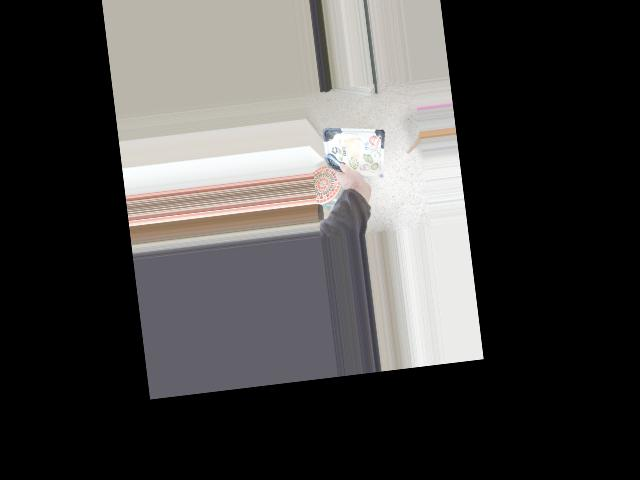cheese: (334, 137, 389, 191)
